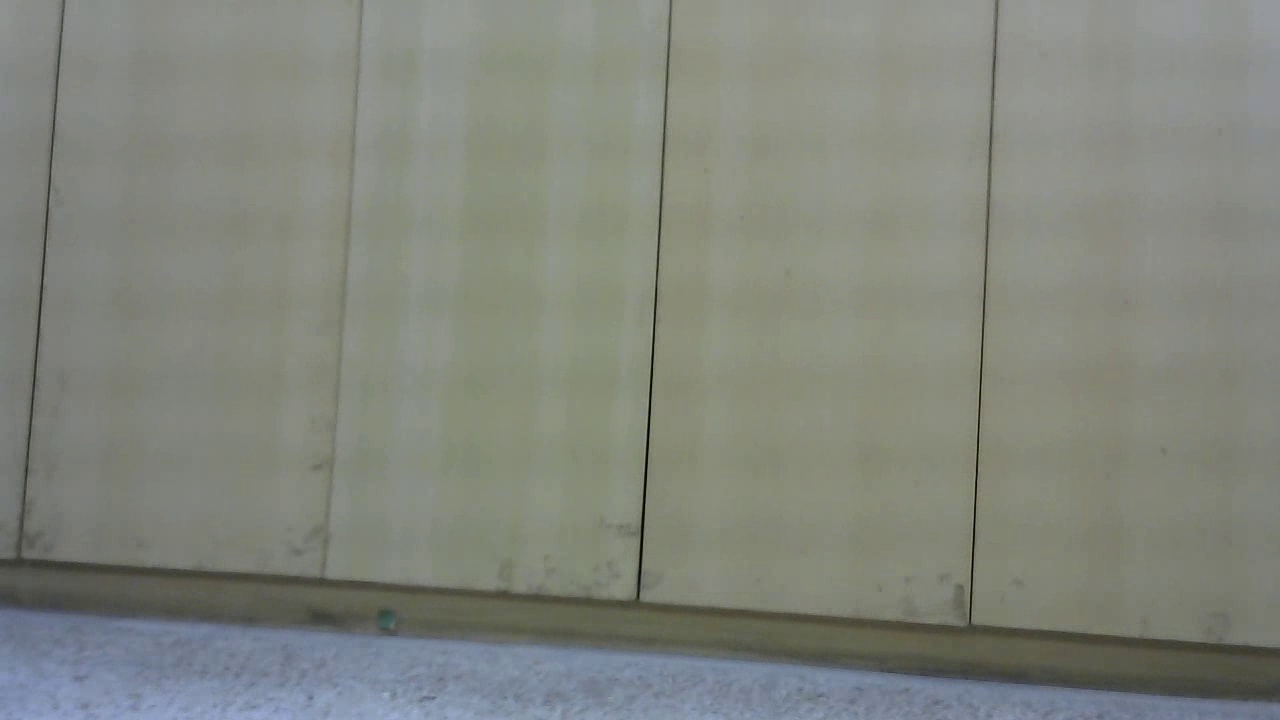chair: (1, 3, 181, 592)
